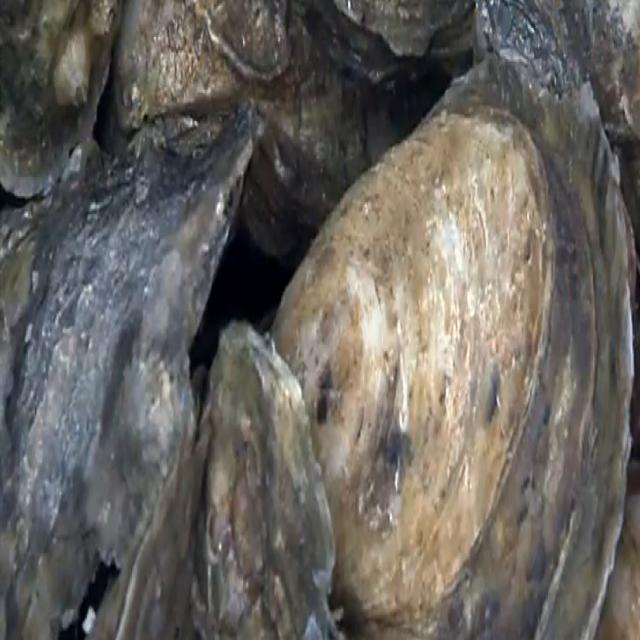Oyster-Closed: (0, 0, 121, 201), (302, 0, 476, 84), (186, 0, 291, 81)
Oyster-Indeterminate: (268, 55, 634, 640), (0, 103, 255, 640), (98, 0, 446, 262), (89, 323, 334, 640), (474, 0, 640, 146), (596, 463, 640, 640)
